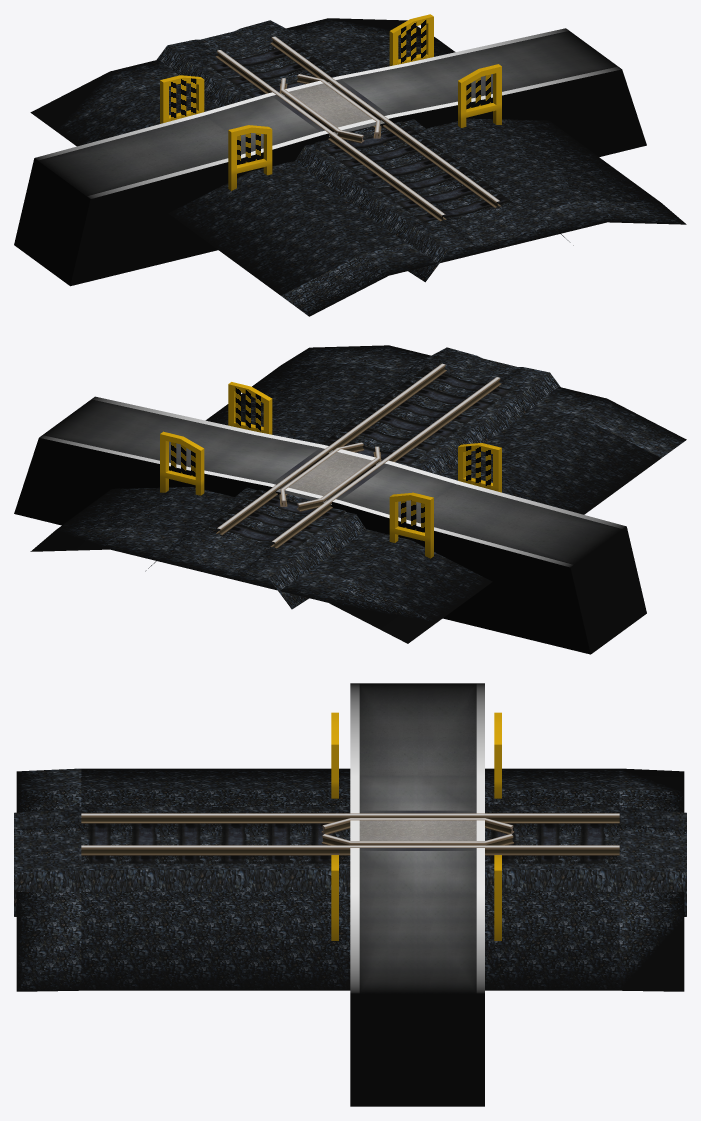
File: SIN_1RAIL_25_HUMIKIRI_NO.glb
3 renders of one model, top to bottom at view 1: azimuth 30°, elevation 25°; view 2: azimuth 150°, elevation 25°; view 3: azimuth 270°, elevation 25°, orthographic. The views are drawn at different scales.
Parts seen in each view (by area): view 1: obj3, obj8, obj7; view 2: obj3, obj7, obj8; view 3: obj3, obj8, obj7.
Part boxes in pixels (<box>): obj3: <box>14,18,686,316</box>; obj8: <box>228,64,501,190</box>; obj7: <box>160,14,433,123</box>; obj3: <box>14,345,686,654</box>; obj7: <box>160,431,433,558</box>; obj8: <box>228,382,501,492</box>; obj3: <box>14,683,686,1106</box>; obj8: <box>331,712,338,940</box>; obj7: <box>494,712,501,940</box>.
Bounding box in the file's own units: 37 × 7.5 × 31.25.
Materials: 9 (8 with a texture image).
